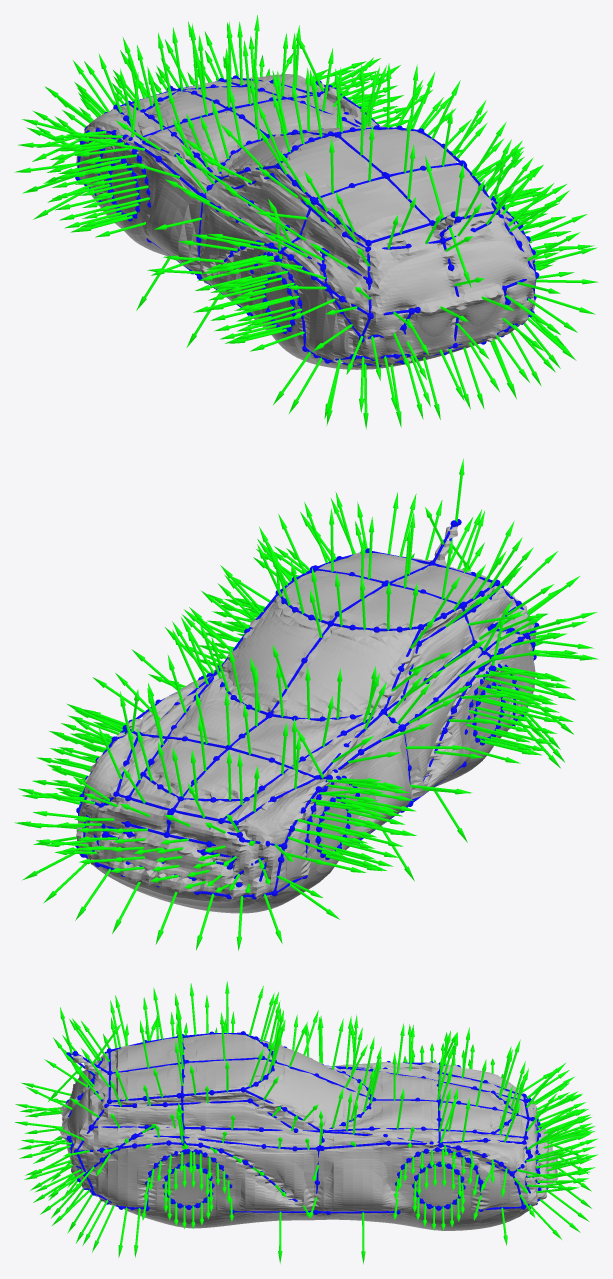
Rendered from ils_car4.gltf.
3 renders of one model, top to bottom at view 1: azimuth 30°, elevation 25°; view 2: azimuth 150°, elevation 25°; view 3: azimuth 270°, elevation 25°, orthographic. The views are drawn at different scales.
Size of the model in its own units: 0.5682 by 0.4258 by 1.08.
